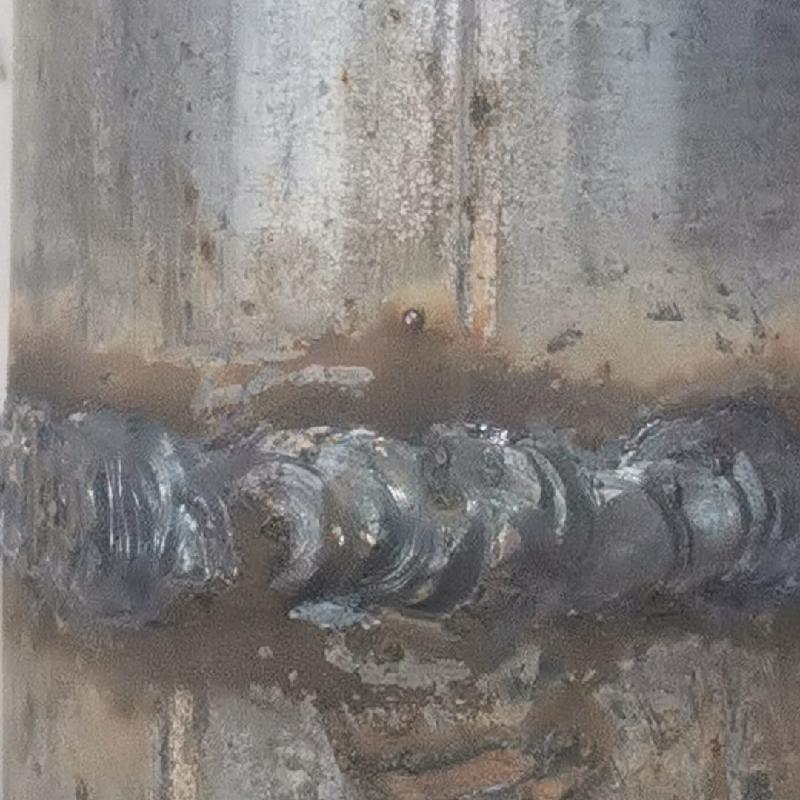good: (1, 385, 799, 616)
